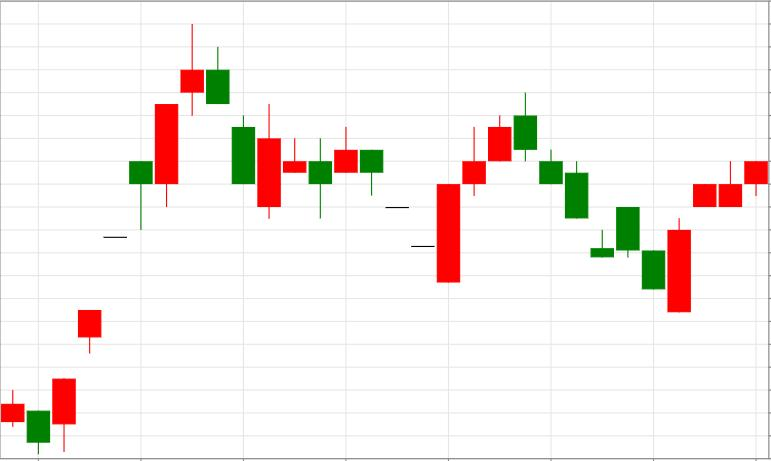bullish_engulfing_rise: (514, 92, 691, 312)
shooting_star_fall: (53, 24, 204, 452)
three_white_soldiers_rise: (359, 114, 511, 283)
